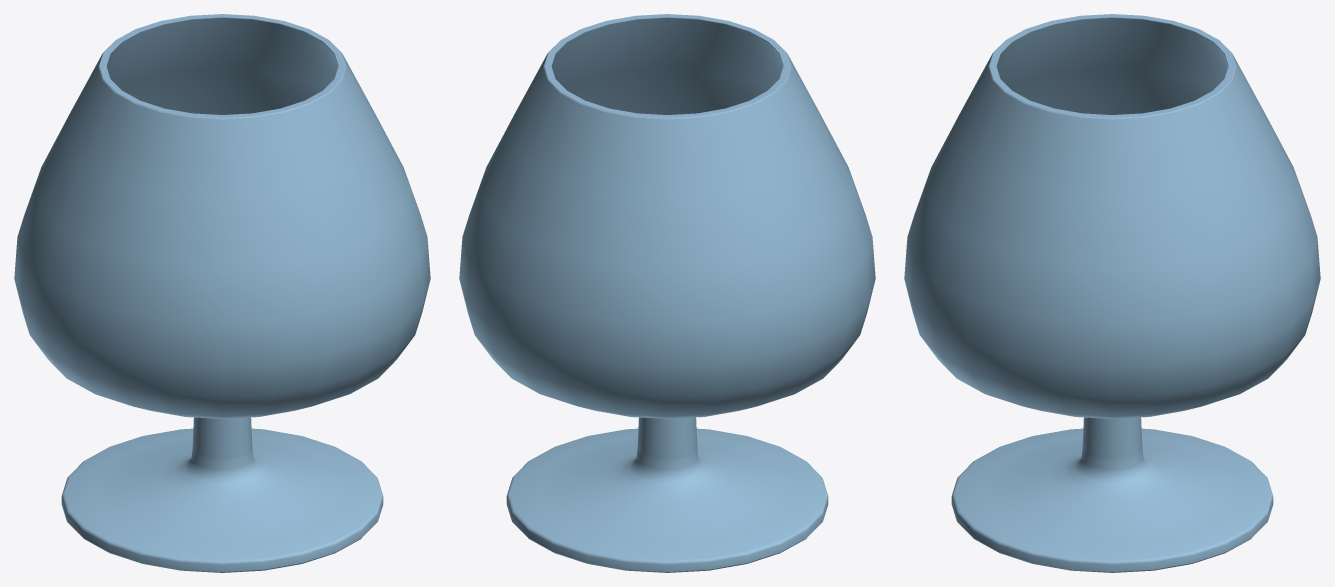
The model's file is win_00_glass.FBX.
3 renders of one model, left to right at view 1: azimuth 30°, elevation 25°; view 2: azimuth 150°, elevation 25°; view 3: azimuth 270°, elevation 25°, orthographic.
Visible parts, largest first — view 1: win_00_glass; view 2: win_00_glass; view 3: win_00_glass.
Boxes of the visible parts, box(x1,y1,x2,y2) form: win_00_glass: box(14, 14, 430, 572); win_00_glass: box(459, 14, 875, 572); win_00_glass: box(904, 14, 1320, 572).
Size of the model in its own units: 92.51 by 108 by 92.51.
